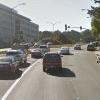Car: (33, 47, 69, 75)
